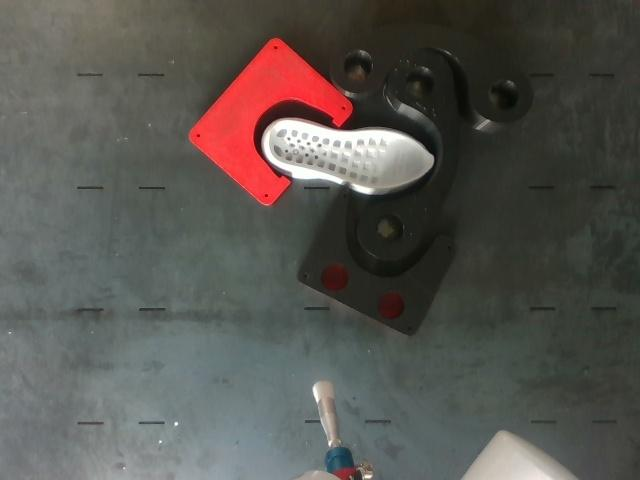shoes: (269, 121, 433, 188)
